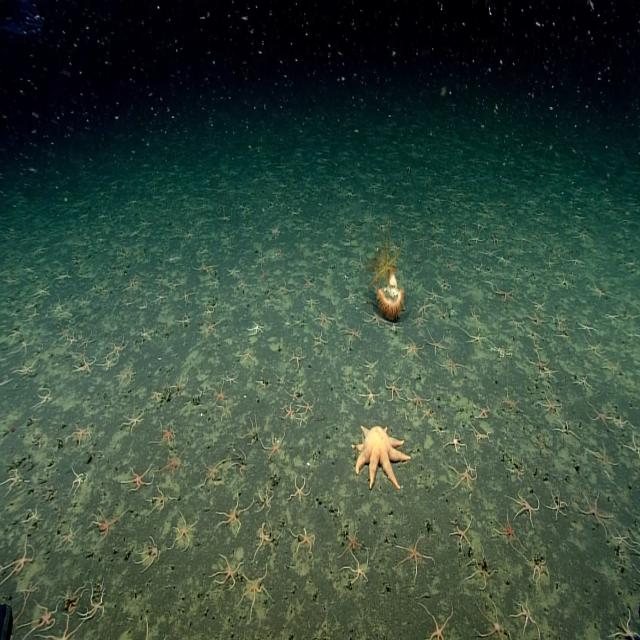brittle-stars: (578, 488, 610, 532), (396, 536, 431, 574), (476, 600, 507, 640), (240, 569, 270, 609), (219, 494, 250, 532), (511, 599, 540, 639), (420, 606, 454, 640), (584, 439, 619, 471), (495, 514, 522, 552), (8, 542, 35, 580), (511, 491, 540, 525), (212, 554, 240, 588), (172, 513, 196, 551), (470, 549, 494, 586), (86, 582, 108, 622), (31, 602, 58, 634), (126, 462, 154, 491), (345, 553, 370, 585), (94, 508, 118, 541), (614, 610, 640, 640), (163, 448, 188, 478), (552, 416, 582, 441), (447, 467, 475, 493), (442, 429, 468, 457), (138, 538, 160, 571), (49, 618, 82, 640), (202, 457, 225, 488), (291, 526, 315, 555), (452, 519, 473, 550), (612, 409, 637, 435), (151, 486, 173, 513), (548, 489, 568, 518), (588, 402, 610, 428), (528, 557, 548, 585), (254, 524, 272, 555), (265, 435, 286, 461), (190, 257, 220, 275), (123, 411, 146, 433), (540, 394, 562, 417), (59, 524, 80, 548), (244, 417, 262, 445), (52, 330, 77, 350), (442, 353, 464, 375), (343, 530, 363, 554), (4, 467, 24, 491), (290, 477, 309, 502), (158, 422, 177, 447), (258, 487, 276, 513), (70, 423, 91, 445), (385, 378, 404, 402), (71, 469, 88, 495), (408, 387, 428, 409), (622, 432, 640, 456), (108, 337, 129, 357), (587, 281, 608, 301), (405, 338, 424, 360), (360, 384, 380, 404), (74, 356, 95, 375), (613, 526, 632, 547), (17, 359, 39, 377), (118, 362, 135, 385), (234, 450, 249, 476), (364, 310, 384, 329), (492, 342, 511, 362), (528, 352, 548, 371), (473, 424, 493, 443), (71, 362, 91, 381), (17, 336, 36, 356), (426, 333, 444, 354), (474, 400, 492, 421), (502, 391, 520, 412), (344, 324, 362, 344), (22, 580, 40, 600), (36, 386, 53, 407), (510, 457, 526, 479), (26, 505, 41, 528), (465, 331, 484, 349), (577, 373, 594, 393), (78, 330, 95, 350), (173, 377, 189, 398), (585, 340, 603, 358), (288, 349, 305, 368), (495, 285, 514, 302), (55, 324, 73, 341), (315, 311, 334, 327), (53, 294, 68, 314), (432, 421, 447, 441), (556, 272, 572, 290), (604, 358, 620, 376), (212, 383, 226, 403), (172, 314, 192, 328), (33, 282, 50, 298), (100, 355, 118, 370), (602, 310, 620, 325), (202, 301, 217, 319), (220, 399, 234, 418), (425, 286, 441, 302), (579, 319, 595, 335), (248, 320, 265, 335), (179, 288, 194, 305), (313, 332, 328, 349), (239, 346, 252, 365), (225, 372, 240, 388), (139, 328, 153, 345), (567, 255, 584, 269), (282, 404, 295, 422), (574, 229, 589, 244), (204, 320, 219, 335), (511, 316, 525, 332), (277, 280, 291, 296), (155, 290, 169, 305), (305, 294, 320, 308), (542, 366, 557, 380), (352, 254, 365, 270), (438, 305, 450, 322), (228, 265, 242, 279), (417, 302, 431, 316), (534, 297, 548, 311), (462, 462, 476, 476), (468, 309, 480, 325), (471, 307, 483, 323), (532, 300, 545, 314), (530, 315, 544, 328), (445, 260, 458, 274), (421, 408, 434, 422), (304, 399, 316, 414), (412, 315, 427, 327), (238, 277, 250, 292), (296, 414, 308, 428), (129, 276, 141, 290), (288, 387, 299, 402), (469, 234, 482, 246), (169, 280, 181, 293), (452, 235, 464, 247), (389, 322, 402, 333), (283, 316, 292, 329)
